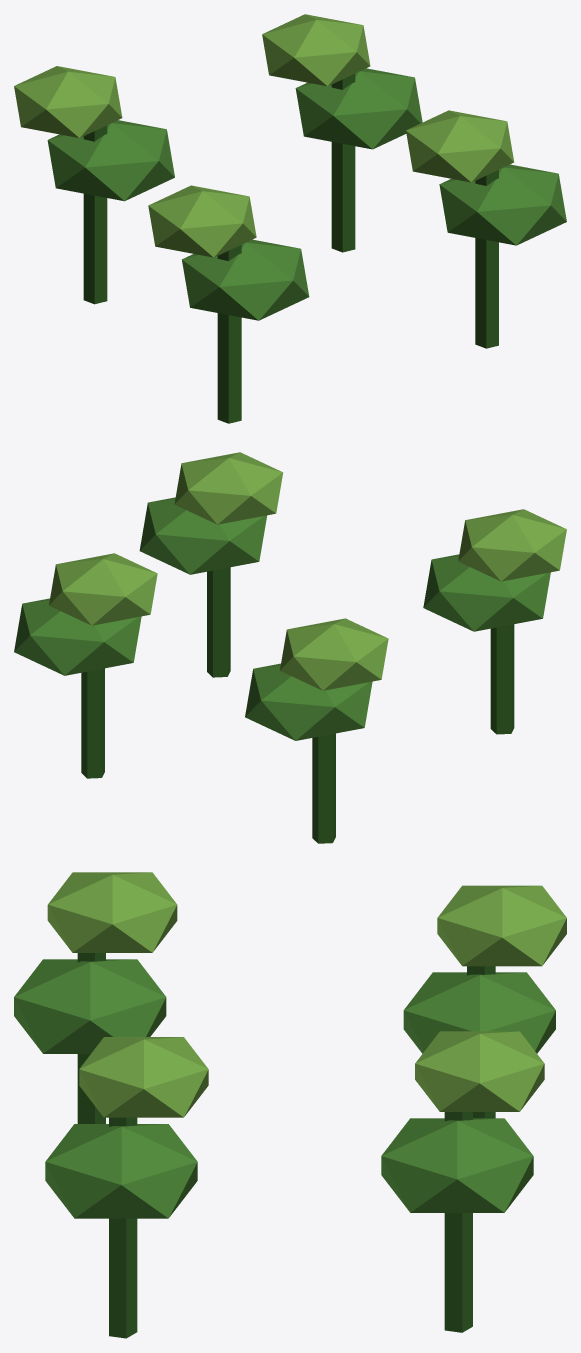
Rendered from crop_tomato_grown.glb.
3 renders of one model, top to bottom at view 1: azimuth 30°, elevation 25°; view 2: azimuth 150°, elevation 25°; view 3: azimuth 270°, elevation 25°, orthographic. The views are drawn at different scales.
Parts seen in each view (by area): view 1: crop_tomato_grown; view 2: crop_tomato_grown; view 3: crop_tomato_grown.
Boxes of the visible parts, left/top/right/bottom form: crop_tomato_grown: left=14, top=14, right=566, bottom=423; crop_tomato_grown: left=14, top=452, right=566, bottom=843; crop_tomato_grown: left=14, top=872, right=566, bottom=1338.
Size of the model in its own units: 1.31 by 0.6935 by 1.23.
